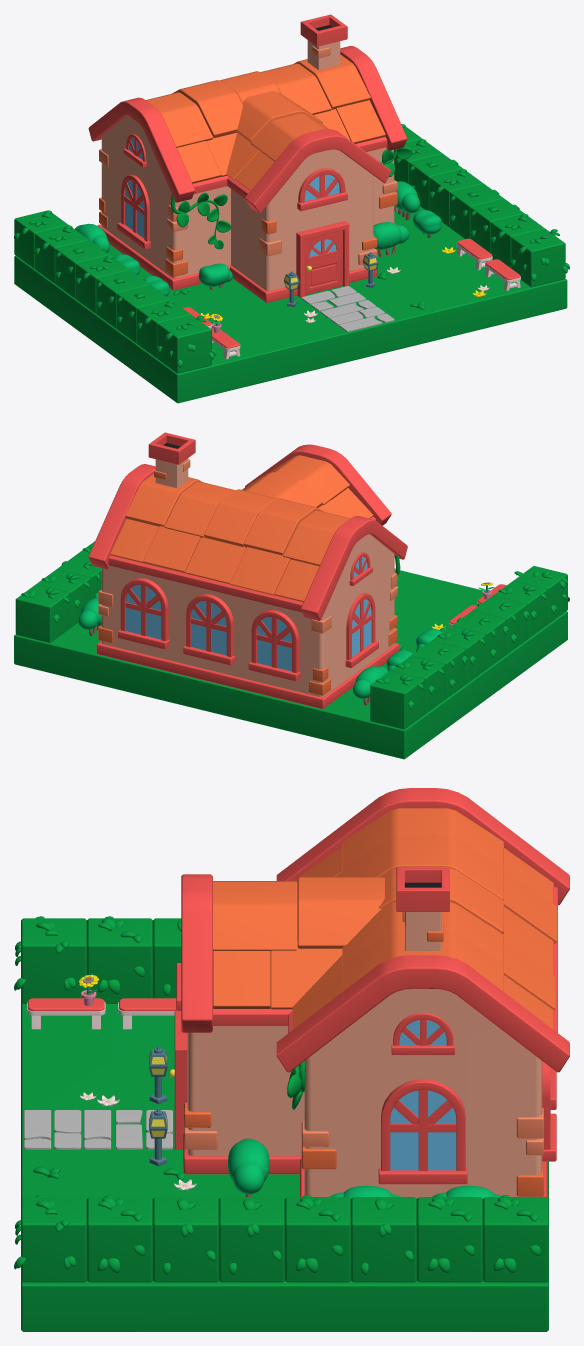
File: Town_Island_11.glb
The picture shows the model from 3 angles, top to bottom: view 1: azimuth 30°, elevation 25°; view 2: azimuth 150°, elevation 25°; view 3: azimuth 270°, elevation 25°; orthographic projection. The views are drawn at different scales.
Parts seen in each view (by area): view 1: Town_11_House_1, Town_11_Base_1, Town_11_Hedge_16, Town_11_Hedge_1, Town_11_Hedge_14, Town_11_Hedge_9, Town_11_Hedge_13, Town_11_Hedge_15, Town_11_Hedge_11, Town_11_Hedge_10, Town_11_Hedge_12, Town_11_Hedge_4 (+16 smaller); view 2: Town_11_House_1, Town_11_Base_1, Town_11_Hedge_8, Town_11_Hedge_10, Town_11_Hedge_16, Town_11_Hedge_9, Town_11_Hedge_15, Town_11_Hedge_13, Town_11_Hedge_11, Town_11_Hedge_12, Town_11_Hedge_14, Town_11_Hedge_7 (+3 smaller); view 3: Town_11_House_1, Town_11_Base_1, Town_11_Hedge_1, Town_11_Hedge_2, Town_11_Hedge_5, Town_11_Hedge_7, Town_11_Hedge_8, Town_11_Hedge_3, Town_11_Hedge_4, Town_11_Hedge_6, Town_11_Hedge_16, Town_11_Hedge_12 (+8 smaller).
Part boxes in pixels (bbox=[...]): Town_11_House_1: bbox=[88, 14, 407, 302]; Town_11_Base_1: bbox=[14, 206, 567, 403]; Town_11_Hedge_16: bbox=[156, 315, 216, 373]; Town_11_Hedge_1: bbox=[510, 228, 569, 287]; Town_11_Hedge_14: bbox=[75, 255, 129, 313]; Town_11_Hedge_9: bbox=[55, 240, 108, 298]; Town_11_Hedge_13: bbox=[116, 285, 170, 343]; Town_11_Hedge_15: bbox=[96, 270, 149, 328]; Town_11_Hedge_11: bbox=[34, 225, 88, 283]; Town_11_Hedge_10: bbox=[14, 210, 68, 268]; Town_11_Hedge_12: bbox=[136, 300, 190, 358]; Town_11_Hedge_4: bbox=[449, 184, 503, 238]; Town_11_House_1: bbox=[88, 432, 407, 709]; Town_11_Base_1: bbox=[14, 570, 567, 759]; Town_11_Hedge_8: bbox=[15, 584, 70, 643]; Town_11_Hedge_10: bbox=[370, 670, 424, 729]; Town_11_Hedge_16: bbox=[513, 566, 569, 624]; Town_11_Hedge_9: bbox=[411, 640, 467, 699]; Town_11_Hedge_15: bbox=[452, 611, 508, 669]; Town_11_Hedge_13: bbox=[472, 596, 529, 654]; Town_11_Hedge_11: bbox=[391, 656, 444, 714]; Town_11_Hedge_12: bbox=[493, 581, 547, 639]; Town_11_Hedge_14: bbox=[432, 626, 485, 684]; Town_11_Hedge_7: bbox=[36, 569, 90, 627]; Town_11_House_1: bbox=[169, 788, 569, 1198]; Town_11_Base_1: bbox=[21, 1002, 548, 1331]; Town_11_Hedge_1: bbox=[14, 1195, 86, 1282]; Town_11_Hedge_2: bbox=[87, 1195, 152, 1282]; Town_11_Hedge_5: bbox=[285, 1195, 350, 1282]; Town_11_Hedge_7: bbox=[417, 1195, 482, 1282]; Town_11_Hedge_8: bbox=[483, 1195, 548, 1282]; Town_11_Hedge_3: bbox=[153, 1197, 218, 1282]; Town_11_Hedge_4: bbox=[219, 1197, 284, 1282]; Town_11_Hedge_6: bbox=[351, 1197, 416, 1282]; Town_11_Hedge_16: bbox=[14, 916, 86, 1003]; Town_11_Hedge_12: bbox=[87, 916, 152, 1003].
Bounding box in the file's own units: 16.18 × 8.63 × 12.08.
Materials: 48 (48 with a texture image).
